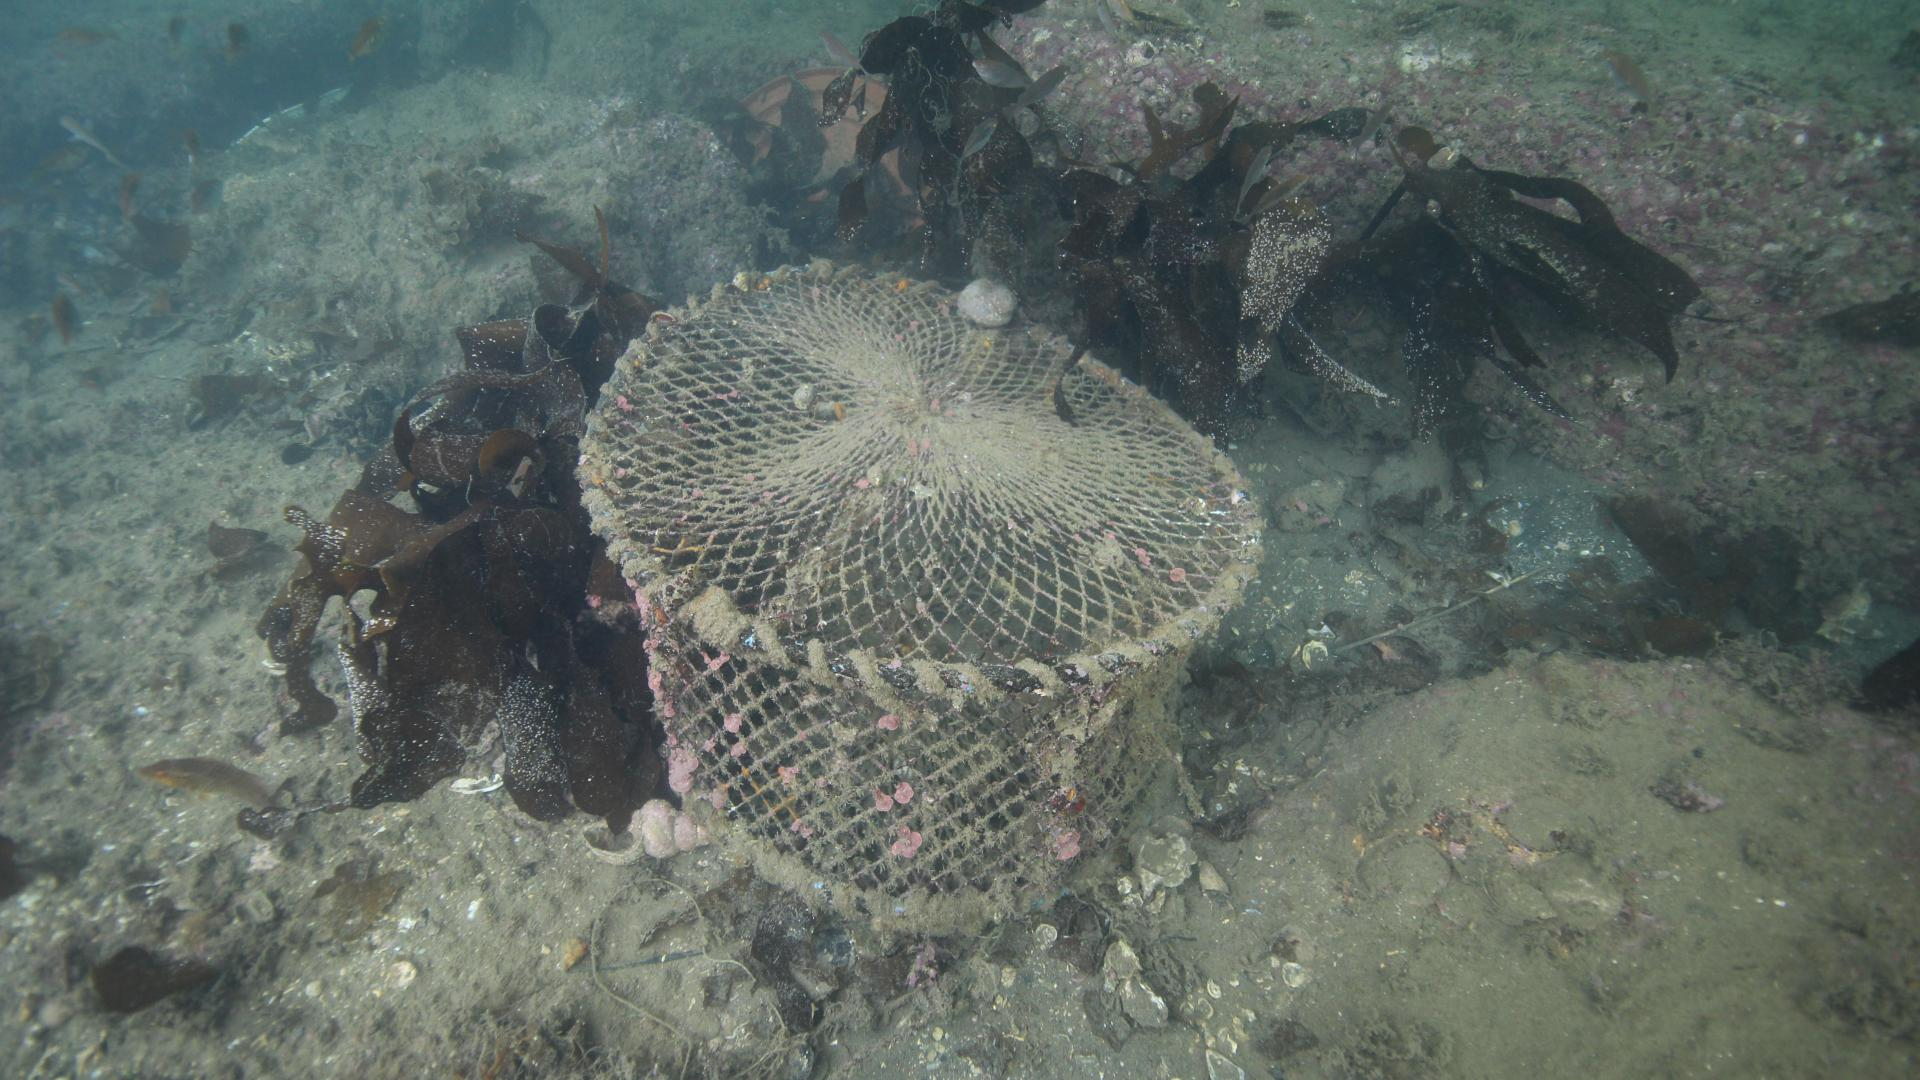circular fish trap: (574, 248, 1274, 932)
